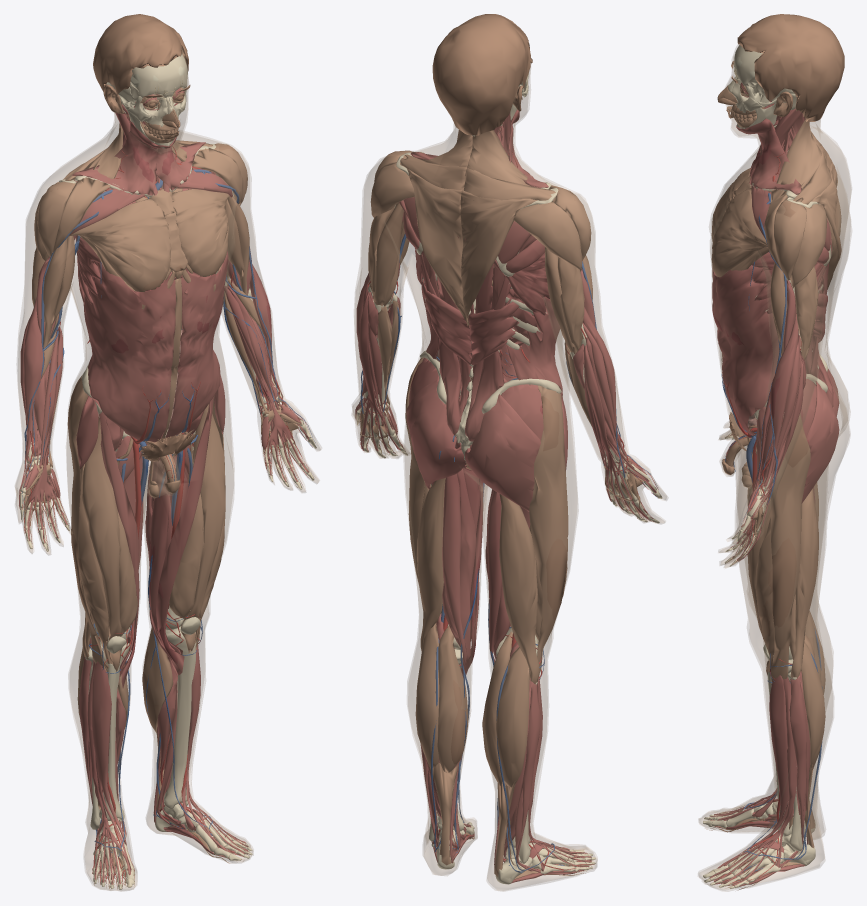
Rendered from context.glb.
3 views of the same model, side by side, from view 1: azimuth 30°, elevation 25°; view 2: azimuth 150°, elevation 25°; view 3: azimuth 270°, elevation 25° (orthographic). The views are drawn at different scales.
Visible parts, largest first — view 1: skin, unmapped, abdomen, thigh, pectoral-surface, forearm, shin, calf, leg, upper-arm, fingers-thumb, palm (+6 smaller); view 2: skin, unmapped, hip, forearm, thigh, leg, shoulder, calf, abdomen, chest, shin, palm (+6 smaller); view 3: skin, unmapped, abdomen, leg, shin, forearm, pectoral-surface, hip, calf, arch, shoulder, toes (+11 smaller).
Boxes of the visible parts, x1,y1,x2,y2 form: skin: [15, 48, 321, 891]; unmapped: [24, 14, 295, 883]; abdomen: [83, 251, 228, 461]; thigh: [90, 396, 213, 688]; pectoral-surface: [69, 167, 232, 309]; forearm: [19, 264, 309, 543]; shin: [85, 434, 248, 884]; calf: [79, 637, 247, 877]; leg: [67, 375, 225, 673]; upper-arm: [24, 170, 277, 473]; fingers-thumb: [19, 399, 316, 551]; palm: [20, 394, 315, 548]; skin: [351, 62, 668, 891]; unmapped: [359, 14, 641, 883]; hip: [406, 350, 562, 511]; forearm: [355, 273, 656, 521]; thigh: [431, 468, 538, 677]; leg: [405, 357, 567, 676]; shoulder: [396, 125, 558, 315]; calf: [420, 613, 591, 872]; abdomen: [421, 282, 562, 395]; chest: [421, 151, 627, 471]; shin: [429, 649, 591, 871]; palm: [356, 397, 657, 520]; skin: [698, 45, 851, 891]; unmapped: [711, 14, 844, 885]; abdomen: [712, 265, 780, 450]; leg: [770, 413, 810, 684]; shin: [709, 638, 802, 885]; forearm: [730, 313, 803, 563]; pectoral-surface: [711, 168, 771, 291]; hip: [754, 354, 839, 503]; calf: [710, 670, 810, 886]; arch: [705, 802, 801, 890]; shoulder: [750, 126, 831, 313]; toes: [703, 799, 784, 888].
Bounding box in the file's own units: 0.6659 × 1.73 × 0.2908.
